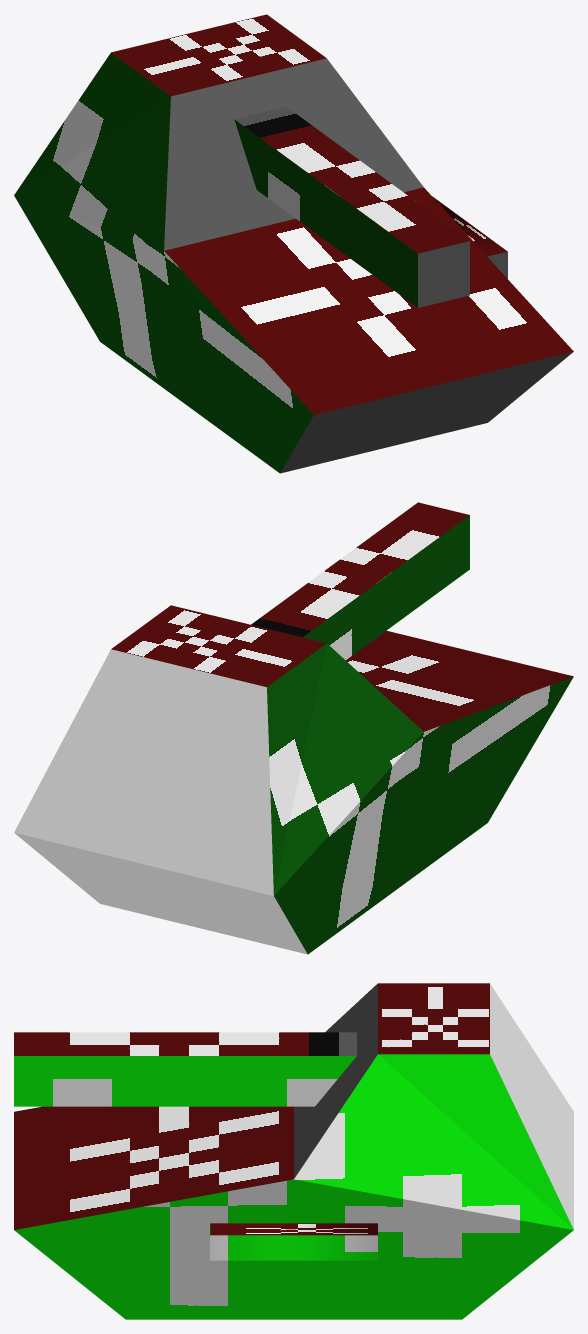
Rendered from heavytank4+y+z.obj.
The picture shows the model from 3 angles, top to bottom: view 1: azimuth 30°, elevation 25°; view 2: azimuth 150°, elevation 25°; view 3: azimuth 270°, elevation 25°; orthographic projection. The views are drawn at different scales.
Parts seen in each view (by area): view 1: Cube; view 2: Cube; view 3: Cube.
Boxes of the visible parts, x1,y1,x2,y2 form: Cube: (14, 14, 573, 473); Cube: (14, 502, 573, 954); Cube: (14, 983, 573, 1319).
Bounding box in the file's own units: 1.15 × 1 × 2.
1 material, 1 textured.
